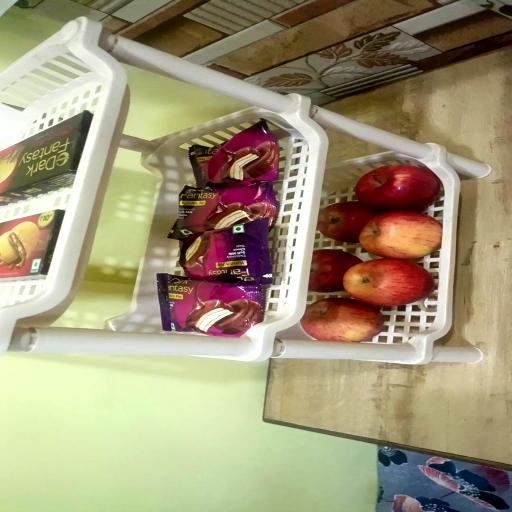Apple: (343, 258, 434, 306), (355, 165, 440, 213), (359, 211, 442, 260), (301, 298, 383, 342), (317, 201, 376, 242), (309, 249, 361, 293)
Choco Fills: (0, 110, 93, 205), (0, 210, 64, 281)
Choco Pie: (157, 274, 263, 337), (168, 182, 279, 239), (189, 119, 280, 187), (180, 218, 272, 285)
